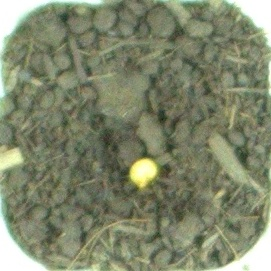pepper seed: (47, 60, 206, 250)
